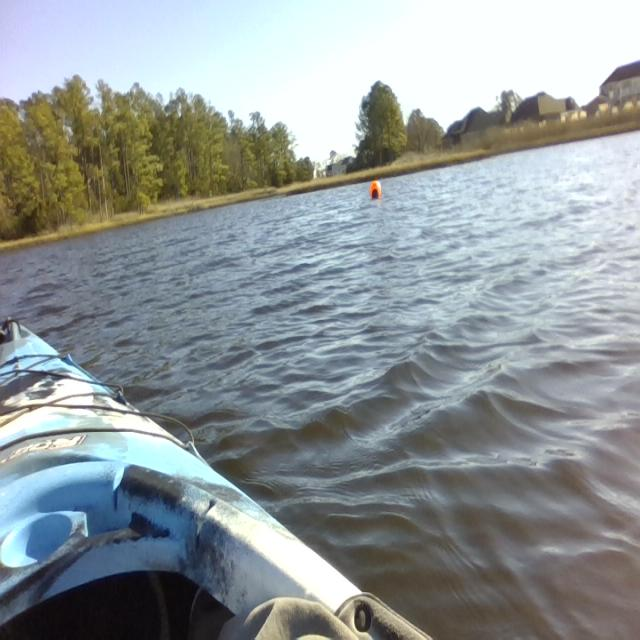Buoy: (362, 171, 389, 209)
